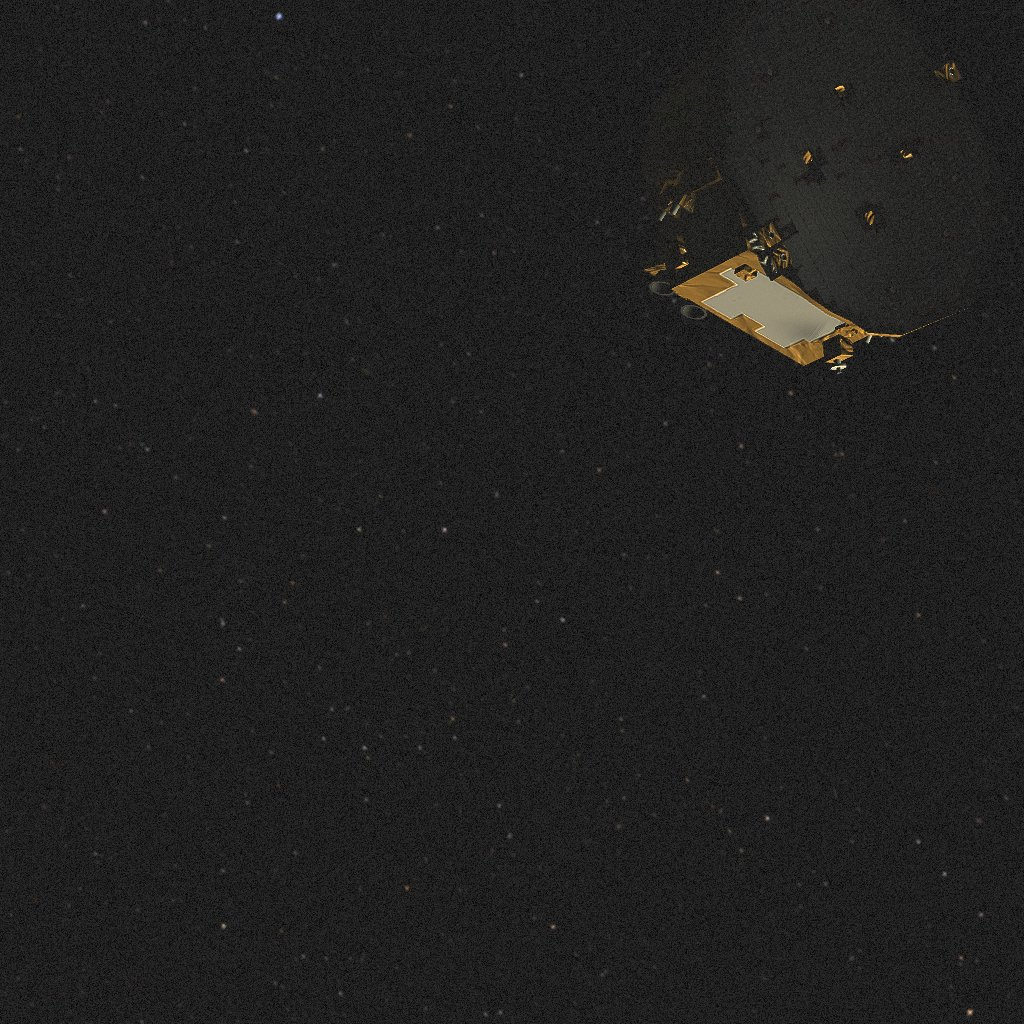lisa_pathfinder: (641, 0, 1005, 373)
